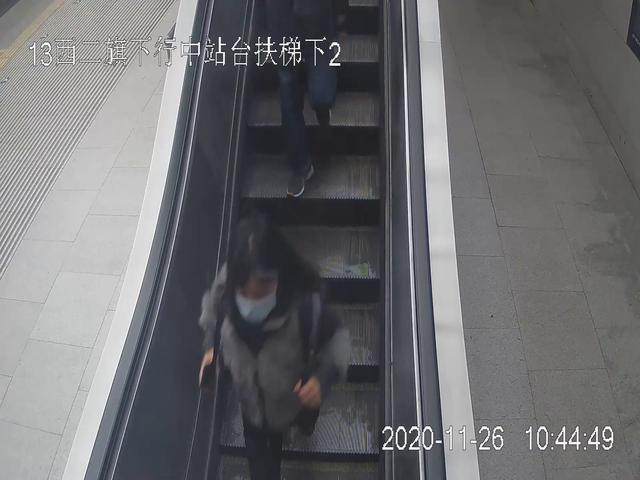person: (199, 219, 349, 480), (261, 1, 345, 197)
